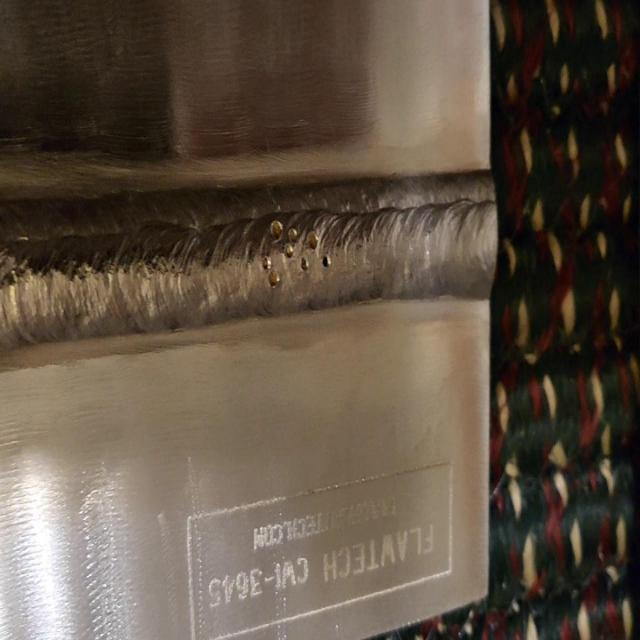Welding Line: (0, 188, 491, 342)
Workpiece: (0, 7, 493, 640)
porosity: (260, 220, 330, 291)
